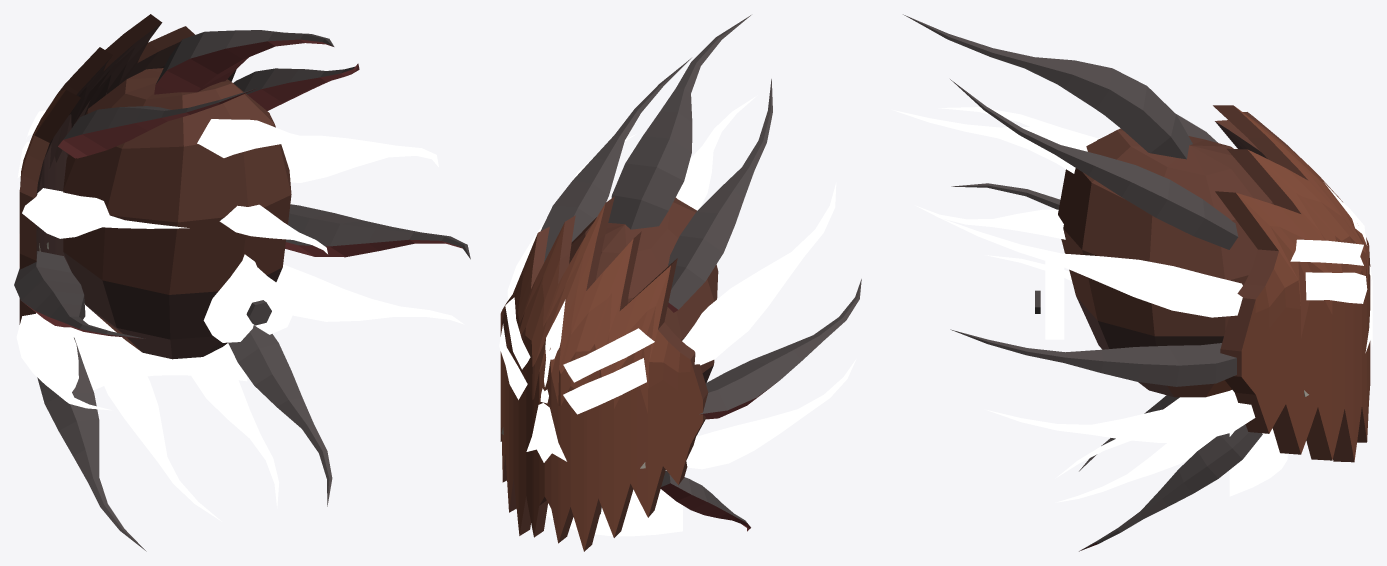
File: soul_mask.glb
The picture shows the model from 3 angles, left to right: view 1: azimuth 30°, elevation 25°; view 2: azimuth 150°, elevation 25°; view 3: azimuth 270°, elevation 25°; orthographic projection. The views are drawn at different scales.
Parts seen in each view (by area): view 1: Mask_Cranium, Mask_Flames_Dark, Mask_Flames_Glow, Mask_Shell, Mask_Flames_Glow_Jaw, Mask_Flames_Dark_Jaw, Mask_Soul, Mask_Throat, Mask_Jaw; view 2: Mask_Shell, Mask_Flames_Dark, Mask_Flames_Glow, Mask_Jaw, Mask_Cranium, Mask_Eyes, Mask_Throat, Mask_Stripe, Mask_Flames_Dark_Jaw; view 3: Mask_Shell, Mask_Cranium, Mask_Flames_Dark, Mask_Flames_Glow, Mask_Jaw, Mask_Flames_Dark_Jaw, Mask_Eyes, Mask_Flames_Glow_Jaw, Mask_Throat, Mask_Soul.
Boxes of the visible parts, x1,y1,x2,y2 form: Mask_Cranium: (63,68,291,344); Mask_Flames_Dark: (14,30,470,338); Mask_Flames_Glow: (16,119,464,410); Mask_Shell: (19,14,236,313); Mask_Flames_Glow_Jaw: (93,331,279,521); Mask_Flames_Dark_Jaw: (37,325,332,551); Mask_Soul: (203,254,295,342); Mask_Throat: (69,304,247,390); Mask_Jaw: (19,253,227,359); Mask_Shell: (500,196,708,470); Mask_Flames_Dark: (541,15,861,419); Mask_Flames_Glow: (507,95,856,469); Mask_Jaw: (500,414,691,551); Mask_Cranium: (569,197,718,382); Mask_Eyes: (499,297,654,414); Mask_Throat: (546,470,682,536); Mask_Stripe: (526,299,566,462); Mask_Flames_Dark_Jaw: (660,470,750,531); Mask_Shell: (1213,105,1370,404); Mask_Cranium: (1058,128,1273,349); Mask_Flames_Dark: (903,14,1238,386); Mask_Flames_Glow: (893,107,1255,442); Mask_Jaw: (1138,354,1370,462); Mask_Flames_Dark_Jaw: (1079,395,1262,551); Mask_Eyes: (1290,203,1369,303); Mask_Flames_Glow_Jaw: (1055,391,1229,502); Mask_Throat: (1229,390,1287,496); Mask_Soul: (1045,261,1064,339).
Size of the model in its own units: 1.65 by 2.35 by 2.06.
